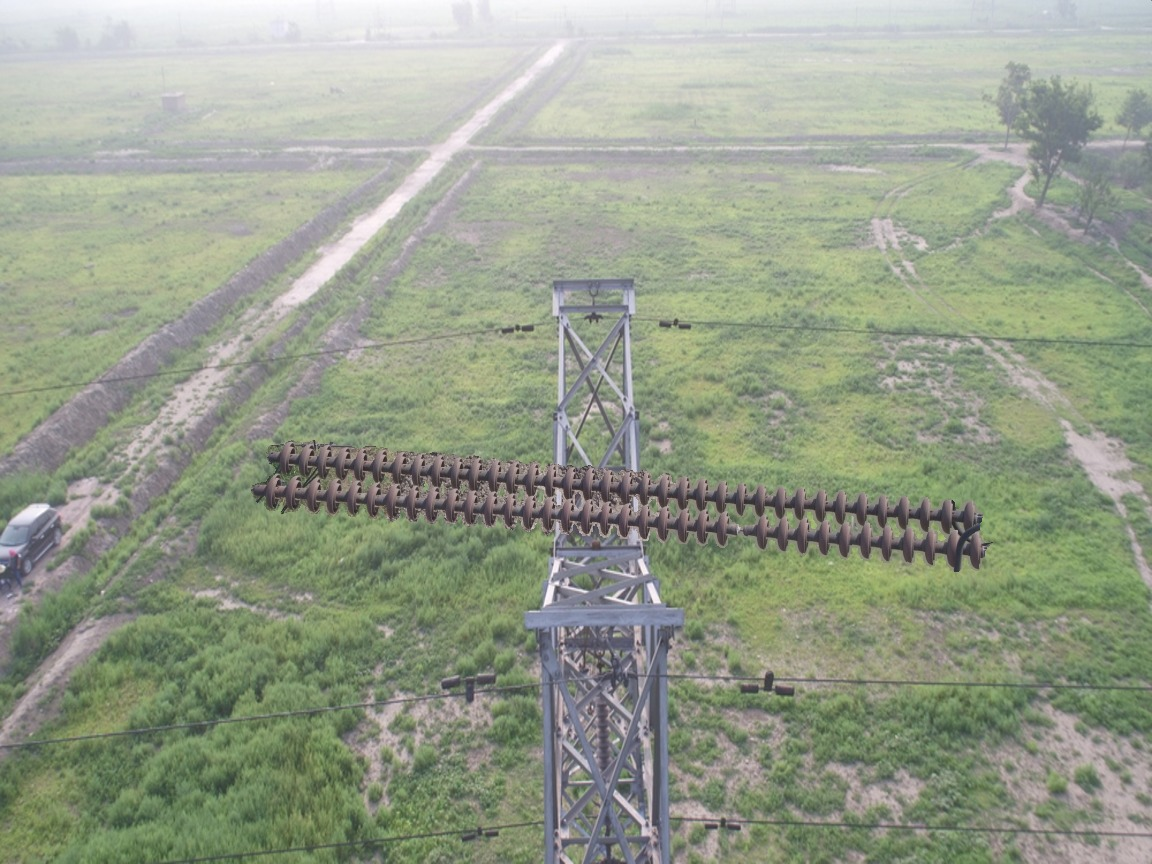defect: (706, 507, 776, 551)
